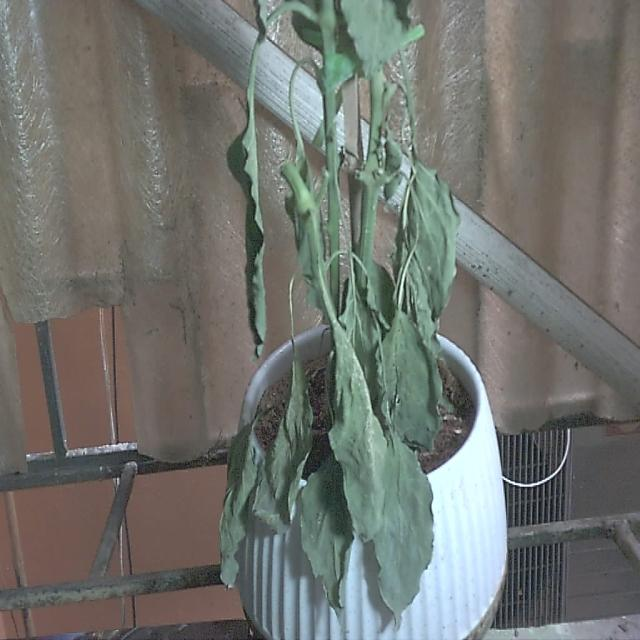Leaf: (328, 319, 387, 546), (366, 439, 437, 627), (251, 354, 313, 539), (373, 305, 444, 459), (223, 124, 269, 358), (217, 422, 262, 590)
